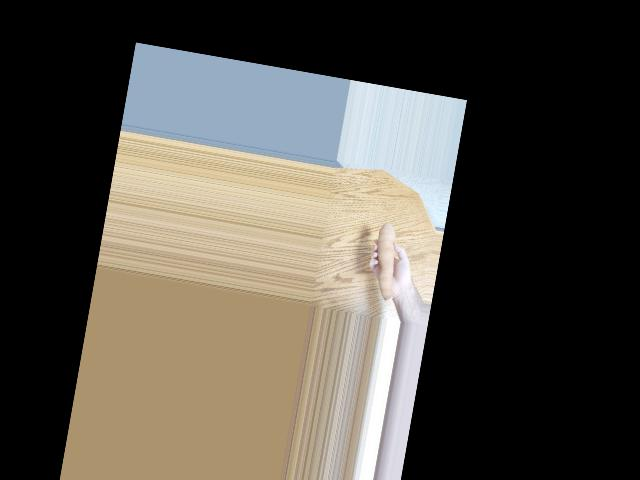sweet_potato: (363, 220, 405, 297)
